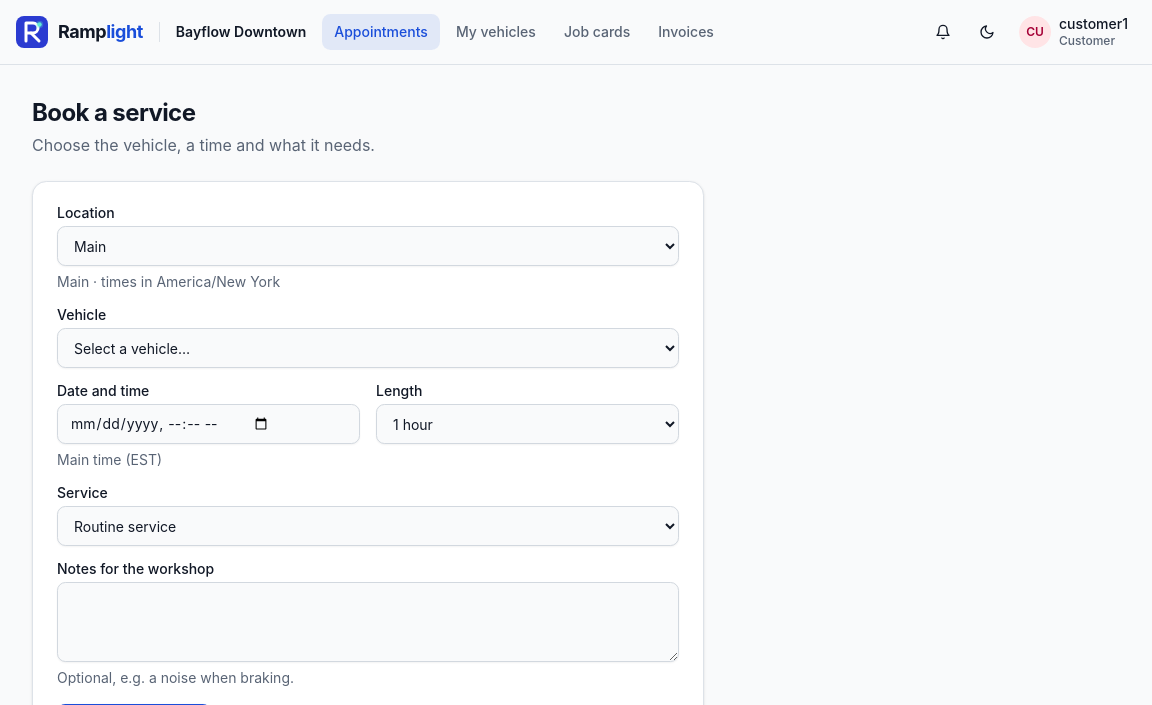
Test case: times are each location’s › books at the chosen location, in that location's time
Later steps or results of the test are not shown.
Select "North" in the dropdown labelled "Location" at (368, 246), box [57, 226, 679, 266]
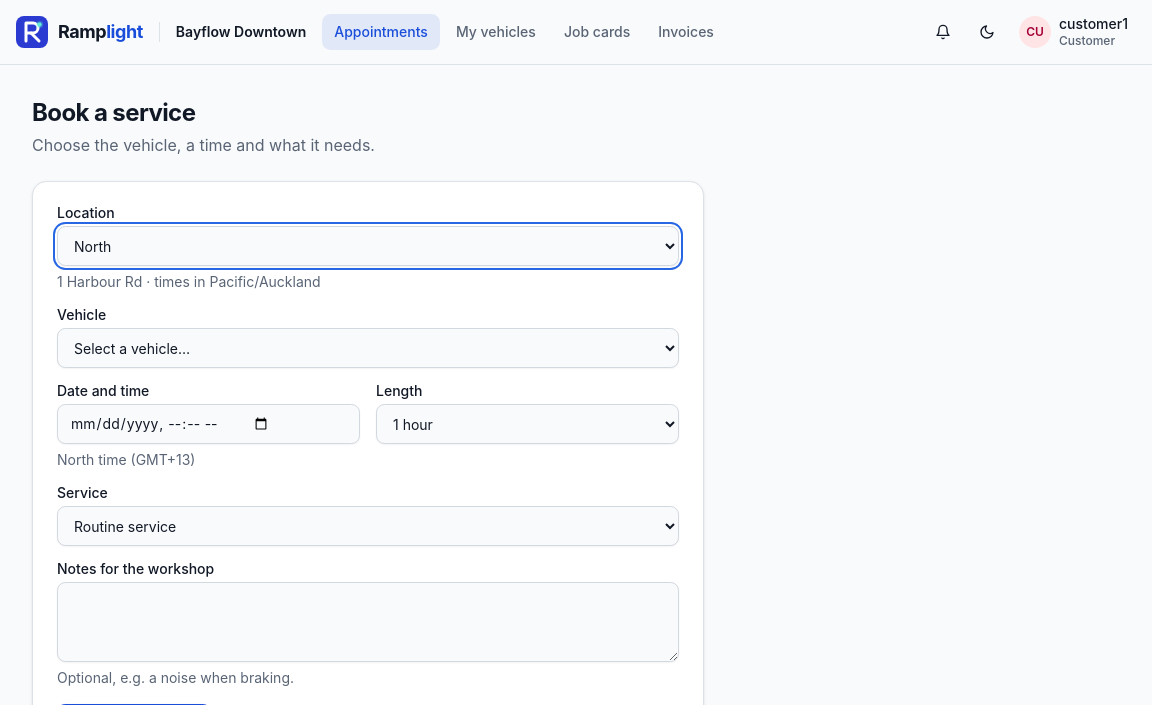
Expected: the text "1 Harbour Rd · times in Pacific/Auckland" is shown, [57, 273, 321, 290]
